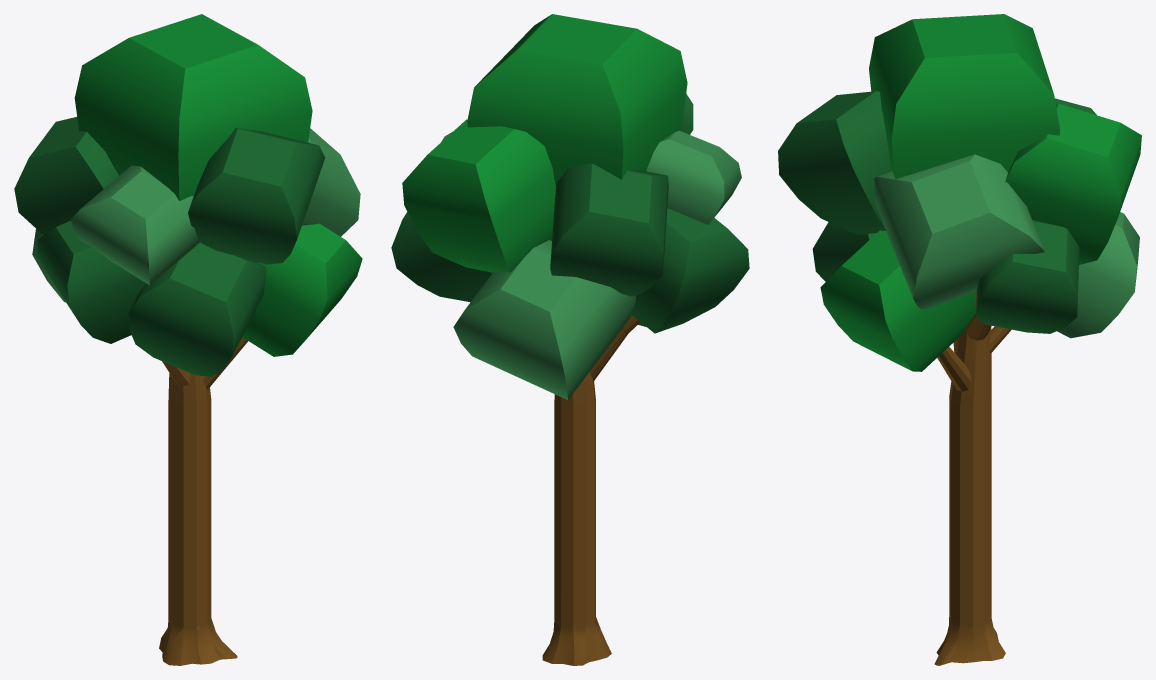
File: tree.fbx
3 renders of one model, left to right at view 1: azimuth 30°, elevation 25°; view 2: azimuth 150°, elevation 25°; view 3: azimuth 270°, elevation 25°, orthographic.
Visible parts, largest first — view 1: leaf11, leaf10, trunk, leaf3, leaf8, leaf2, leaf7, leaf4, leaf6; view 2: leaf11, leaf9, leaf1, leaf7, trunk, leaf4, leaf8, leaf5, branch2; view 3: leaf11, leaf6, trunk, leaf9, leaf10, leaf2, leaf5, leaf1, leaf3, branch1.
Part boxes in pixels (left/top/right/bottom): leaf11: left=74, top=14, right=312, bottom=201; leaf10: left=188, top=128, right=324, bottom=264; trunk: left=159, top=372, right=237, bottom=665; leaf3: left=128, top=242, right=266, bottom=376; leaf8: left=70, top=165, right=200, bottom=285; leaf2: left=242, top=223, right=362, bottom=356; leaf7: left=14, top=117, right=118, bottom=234; leaf4: left=37, top=220, right=145, bottom=343; leaf6: left=302, top=128, right=360, bottom=236; leaf11: left=467, top=14, right=687, bottom=185; leaf9: left=402, top=119, right=555, bottom=272; leaf1: left=453, top=240, right=635, bottom=399; leaf7: left=550, top=163, right=668, bottom=296; trunk: left=542, top=371, right=611, bottom=665; leaf4: left=631, top=208, right=749, bottom=333; leaf8: left=646, top=130, right=741, bottom=224; leaf5: left=391, top=212, right=492, bottom=302; branch2: left=590, top=314, right=640, bottom=381; leaf11: left=869, top=14, right=1060, bottom=179; leaf6: left=874, top=154, right=1044, bottom=309; trunk: left=934, top=291, right=1005, bottom=665; leaf9: left=1005, top=103, right=1141, bottom=264; leaf10: left=778, top=91, right=891, bottom=234; leaf2: left=820, top=230, right=976, bottom=371; leaf5: left=976, top=219, right=1079, bottom=333; leaf1: left=1057, top=212, right=1139, bottom=338; leaf3: left=812, top=222, right=876, bottom=281; branch1: left=937, top=347, right=971, bottom=391.
Bounding box in the file's own units: 1266 × 2539 × 1363.
